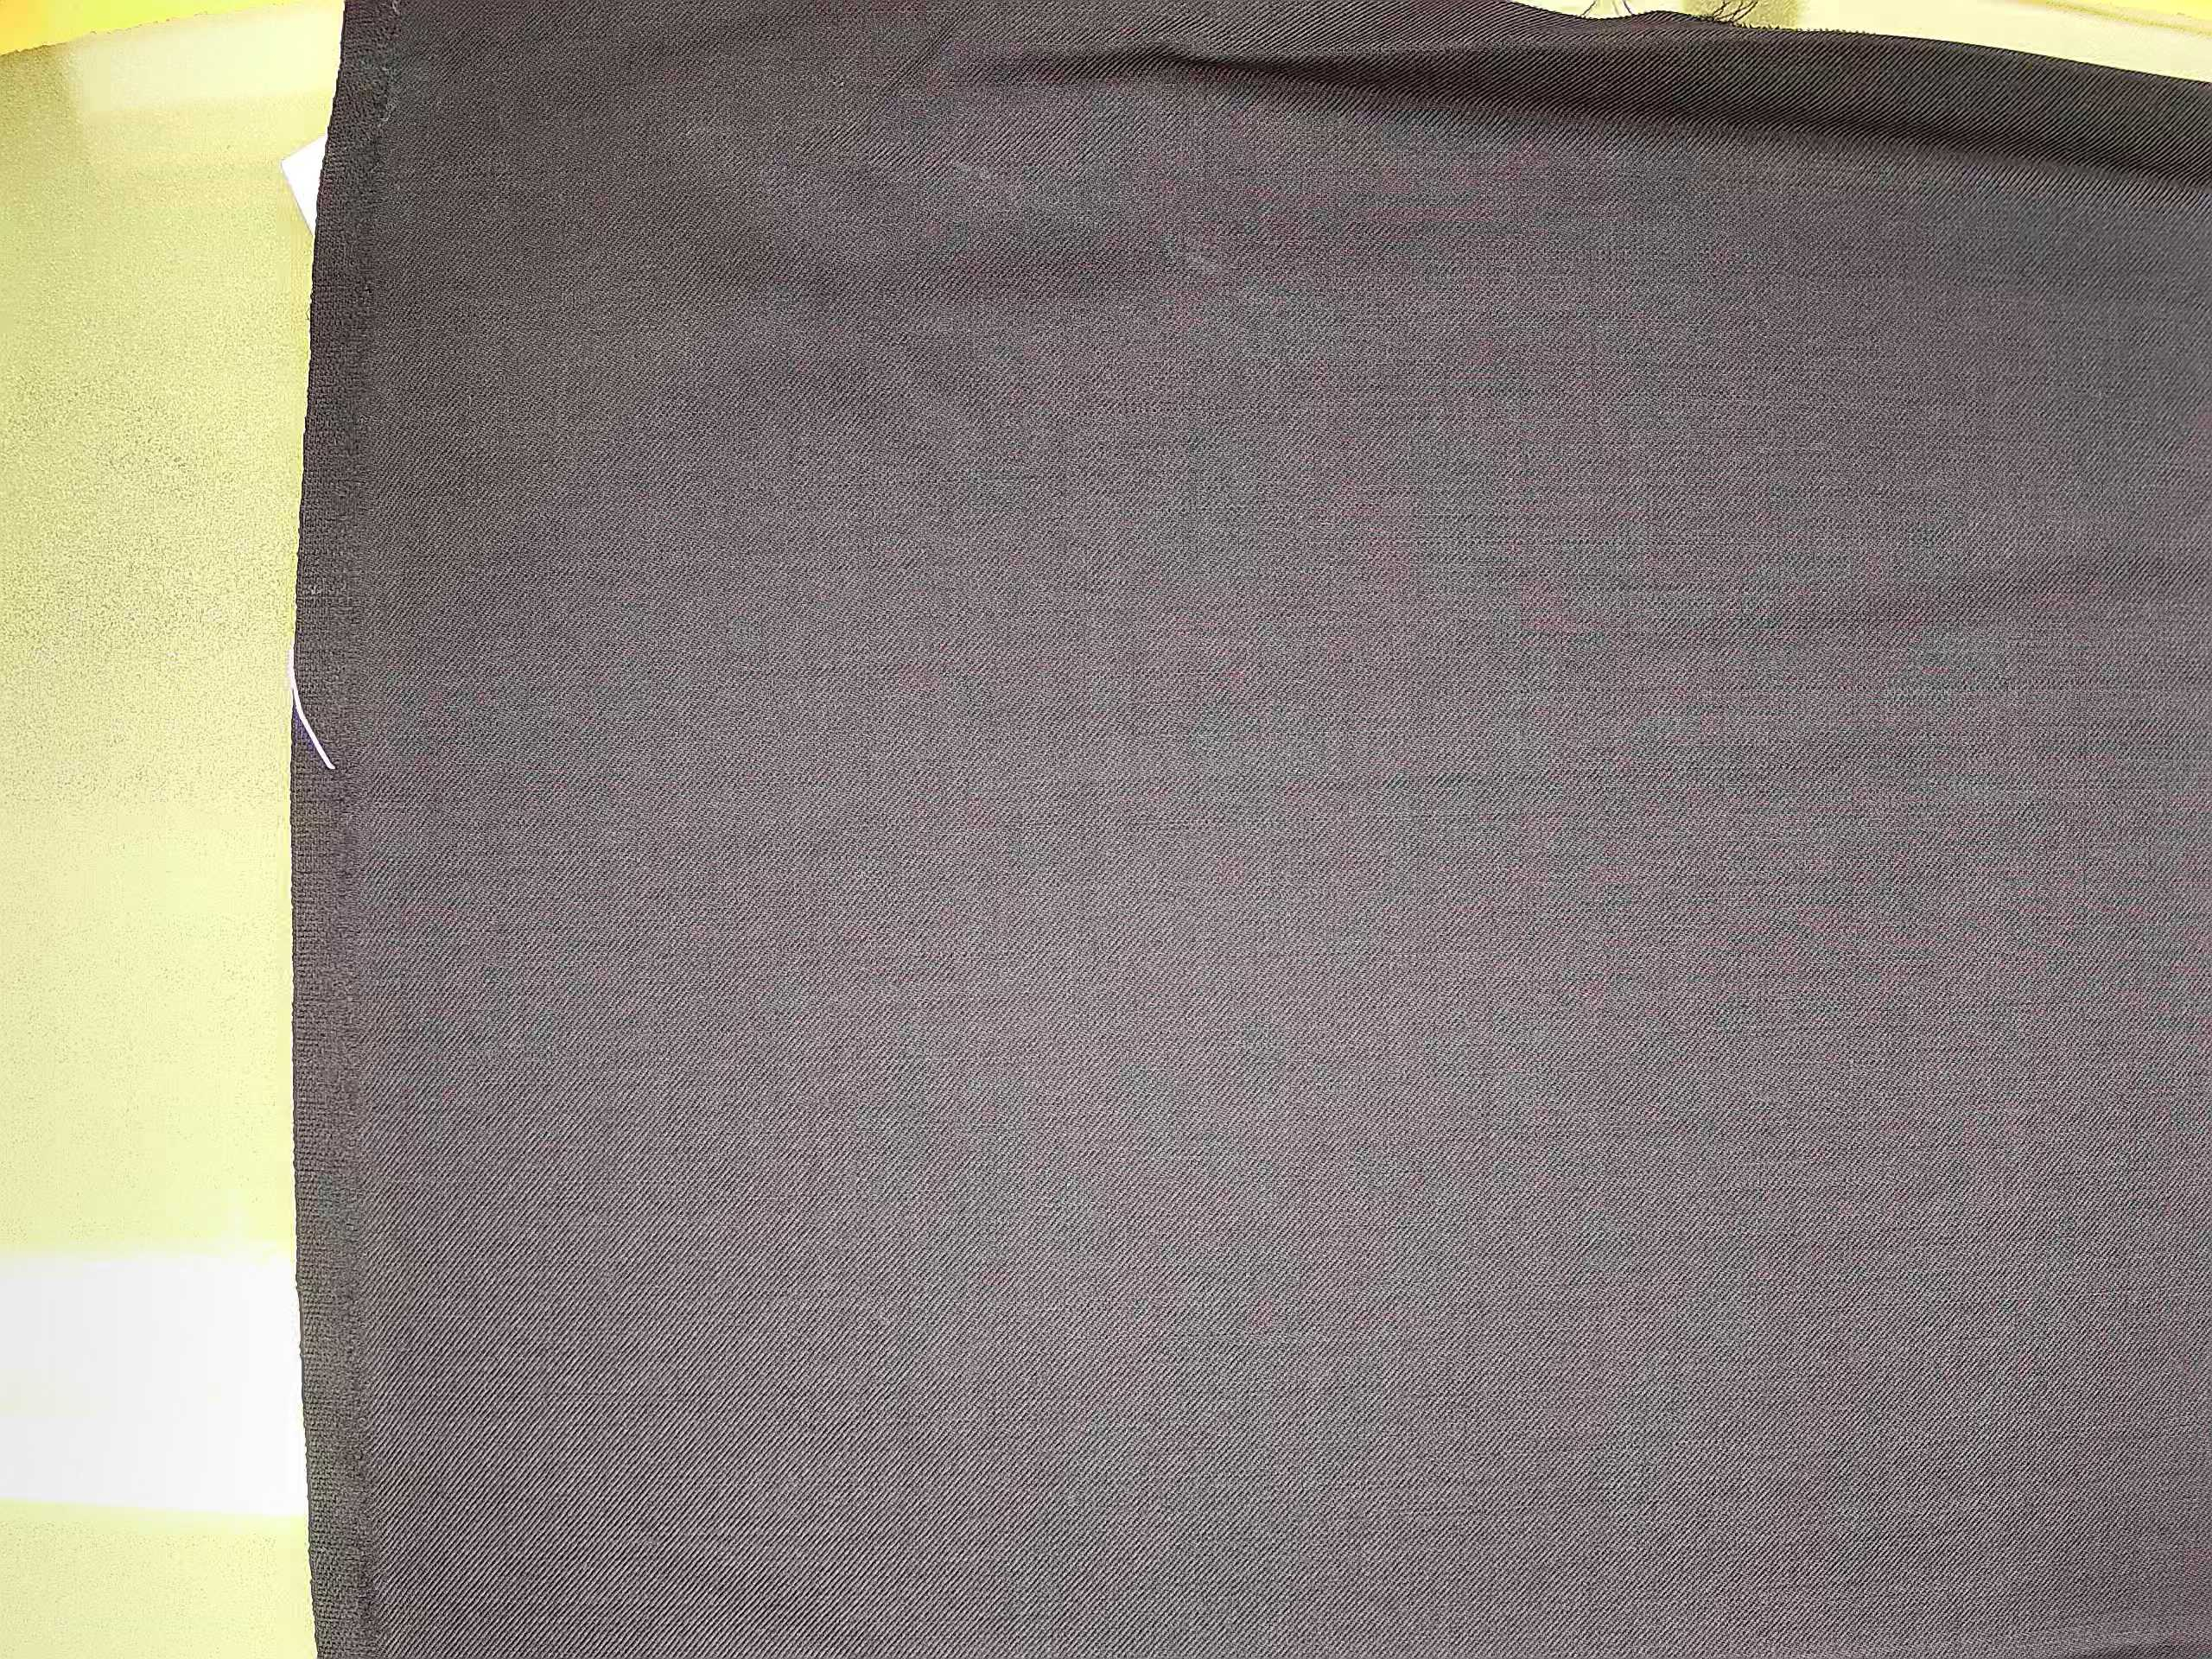others: (873, 120, 1331, 364)
